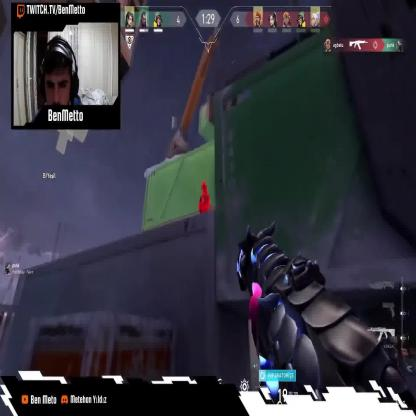enemy: (198, 181, 212, 230)
enemy_head: (201, 182, 208, 194)
